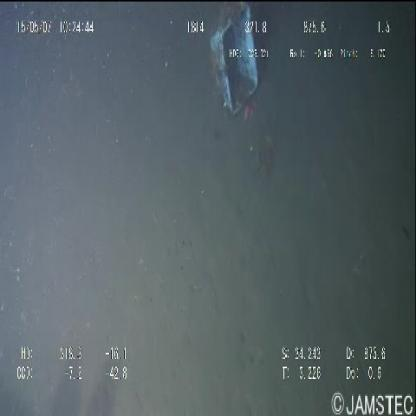Rác: (208, 2, 263, 123)
